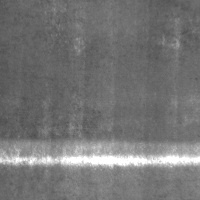scratches: (0, 141, 199, 168)
